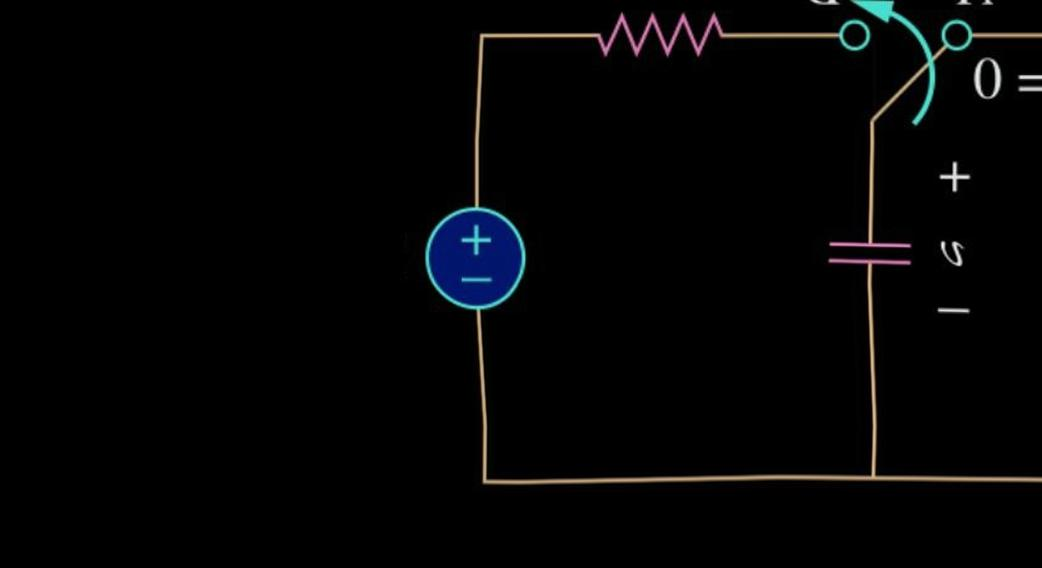Battery: (409, 183, 549, 328)
